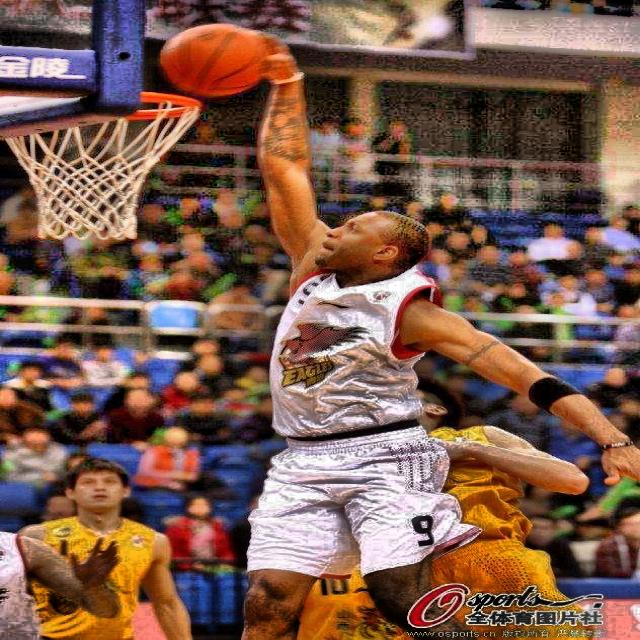rim: (6, 95, 196, 242)
